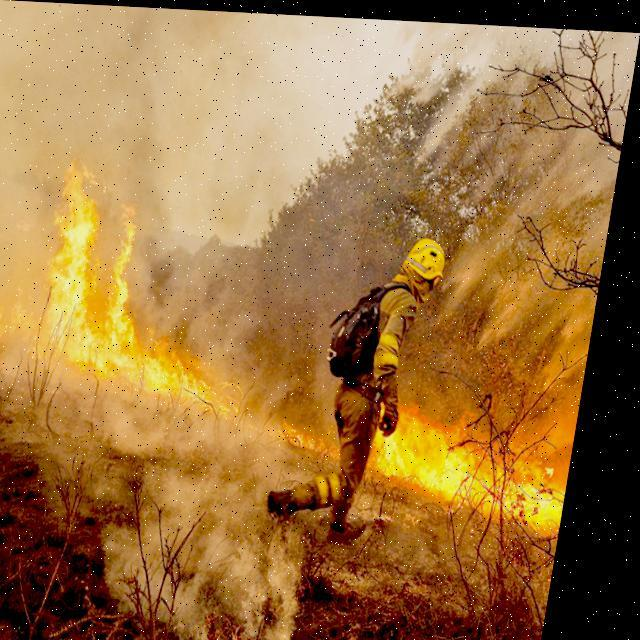Fire: (0, 165, 283, 422), (370, 387, 592, 533)
